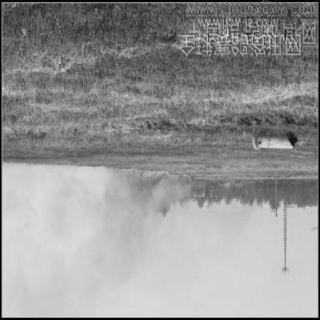Fire: (180, 173, 194, 184)
Smoke: (7, 169, 115, 303)
